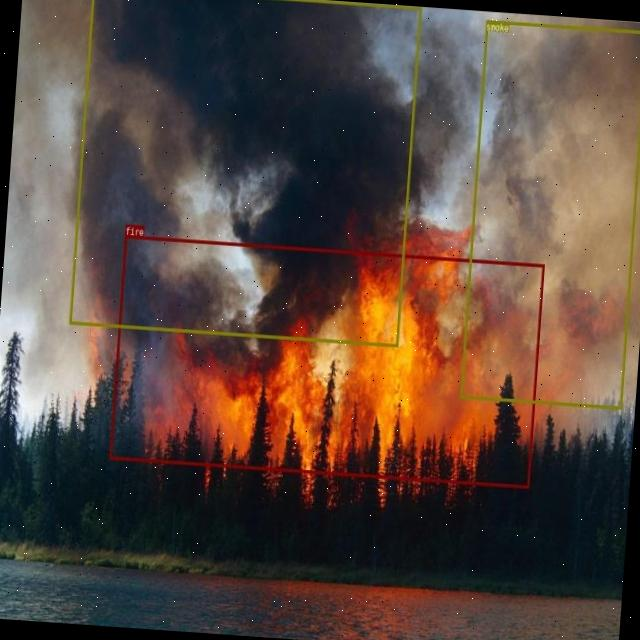fire: (109, 234, 544, 488)
smoke: (68, 0, 420, 345), (459, 20, 640, 409)
